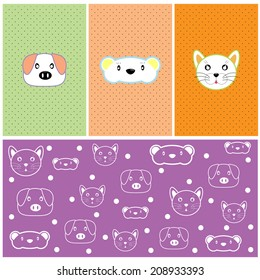animal: (101, 53, 159, 83), (17, 187, 56, 217), (154, 223, 192, 251), (63, 217, 98, 243), (120, 168, 152, 193), (207, 163, 238, 188)
cat: (192, 48, 242, 89), (6, 142, 46, 176), (168, 186, 205, 216), (111, 227, 141, 251), (78, 184, 106, 209), (220, 199, 248, 223), (91, 142, 119, 166)
dog: (23, 50, 66, 85)
